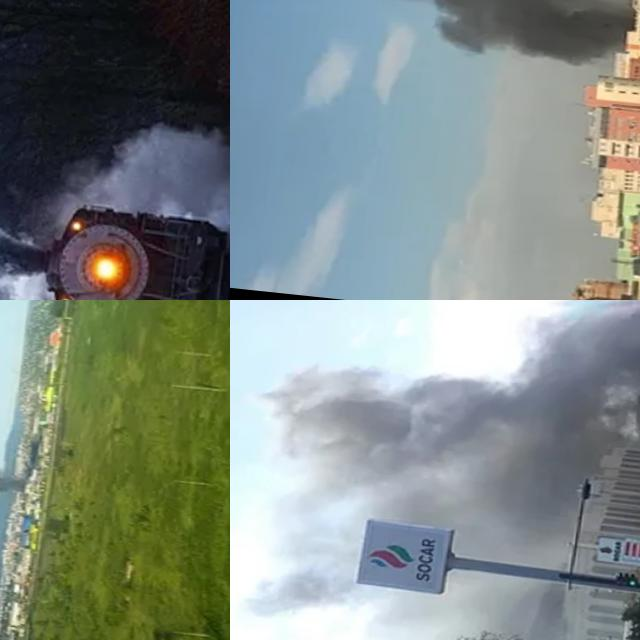smoke: (257, 300, 640, 494), (230, 0, 640, 73), (0, 0, 64, 300)
